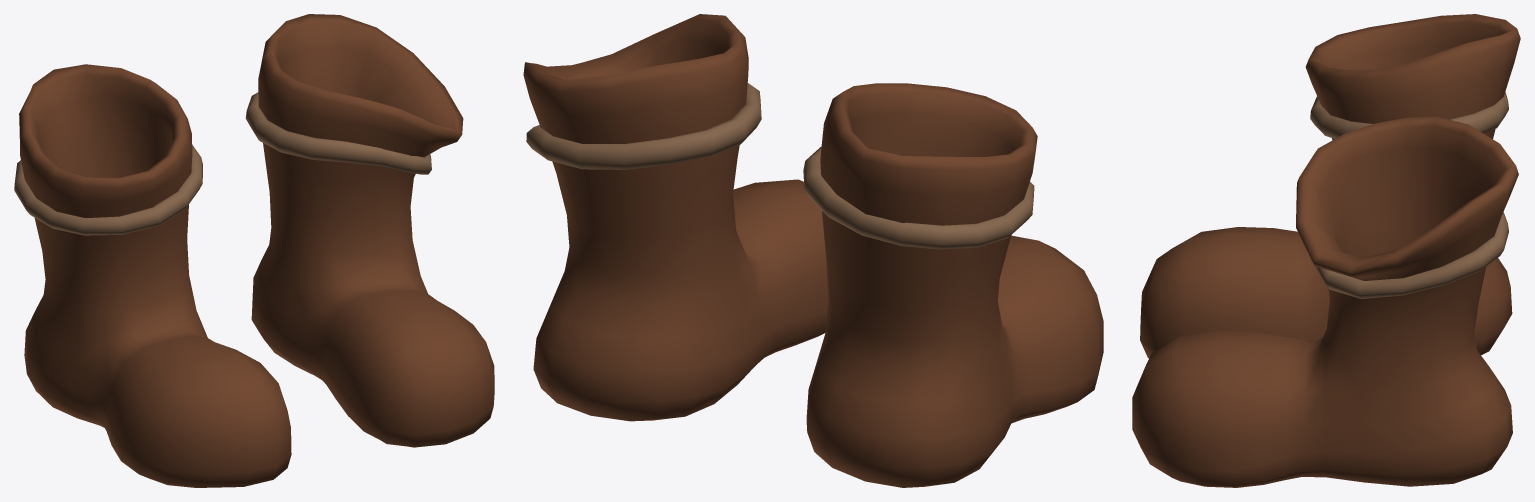
Rendered from boots_model.fbx.
3 views of the same model, side by side, from view 1: azimuth 30°, elevation 25°; view 2: azimuth 150°, elevation 25°; view 3: azimuth 270°, elevation 25° (orthographic). The views are drawn at different scales.
Parts seen in each view (by area): view 1: Boots, Straps; view 2: Boots, Straps; view 3: Boots, Straps.
Boxes of the visible parts, x1,y1,x2,y2 form: Boots: [19, 14, 494, 487]; Straps: [14, 92, 431, 235]; Boots: [523, 14, 1103, 487]; Straps: [526, 83, 1034, 249]; Boots: [1132, 14, 1520, 487]; Straps: [1309, 91, 1508, 298].
Bounding box in the file's own units: 40.13 × 29.22 × 31.49.
